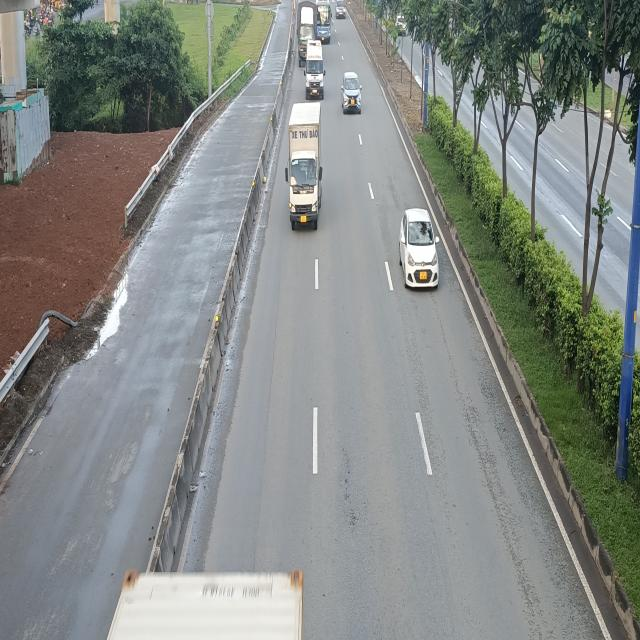car: (400, 206, 440, 288), (342, 72, 362, 115)
coach: (315, 1, 332, 44)
truck: (284, 104, 321, 232)
van: (305, 41, 326, 100)
